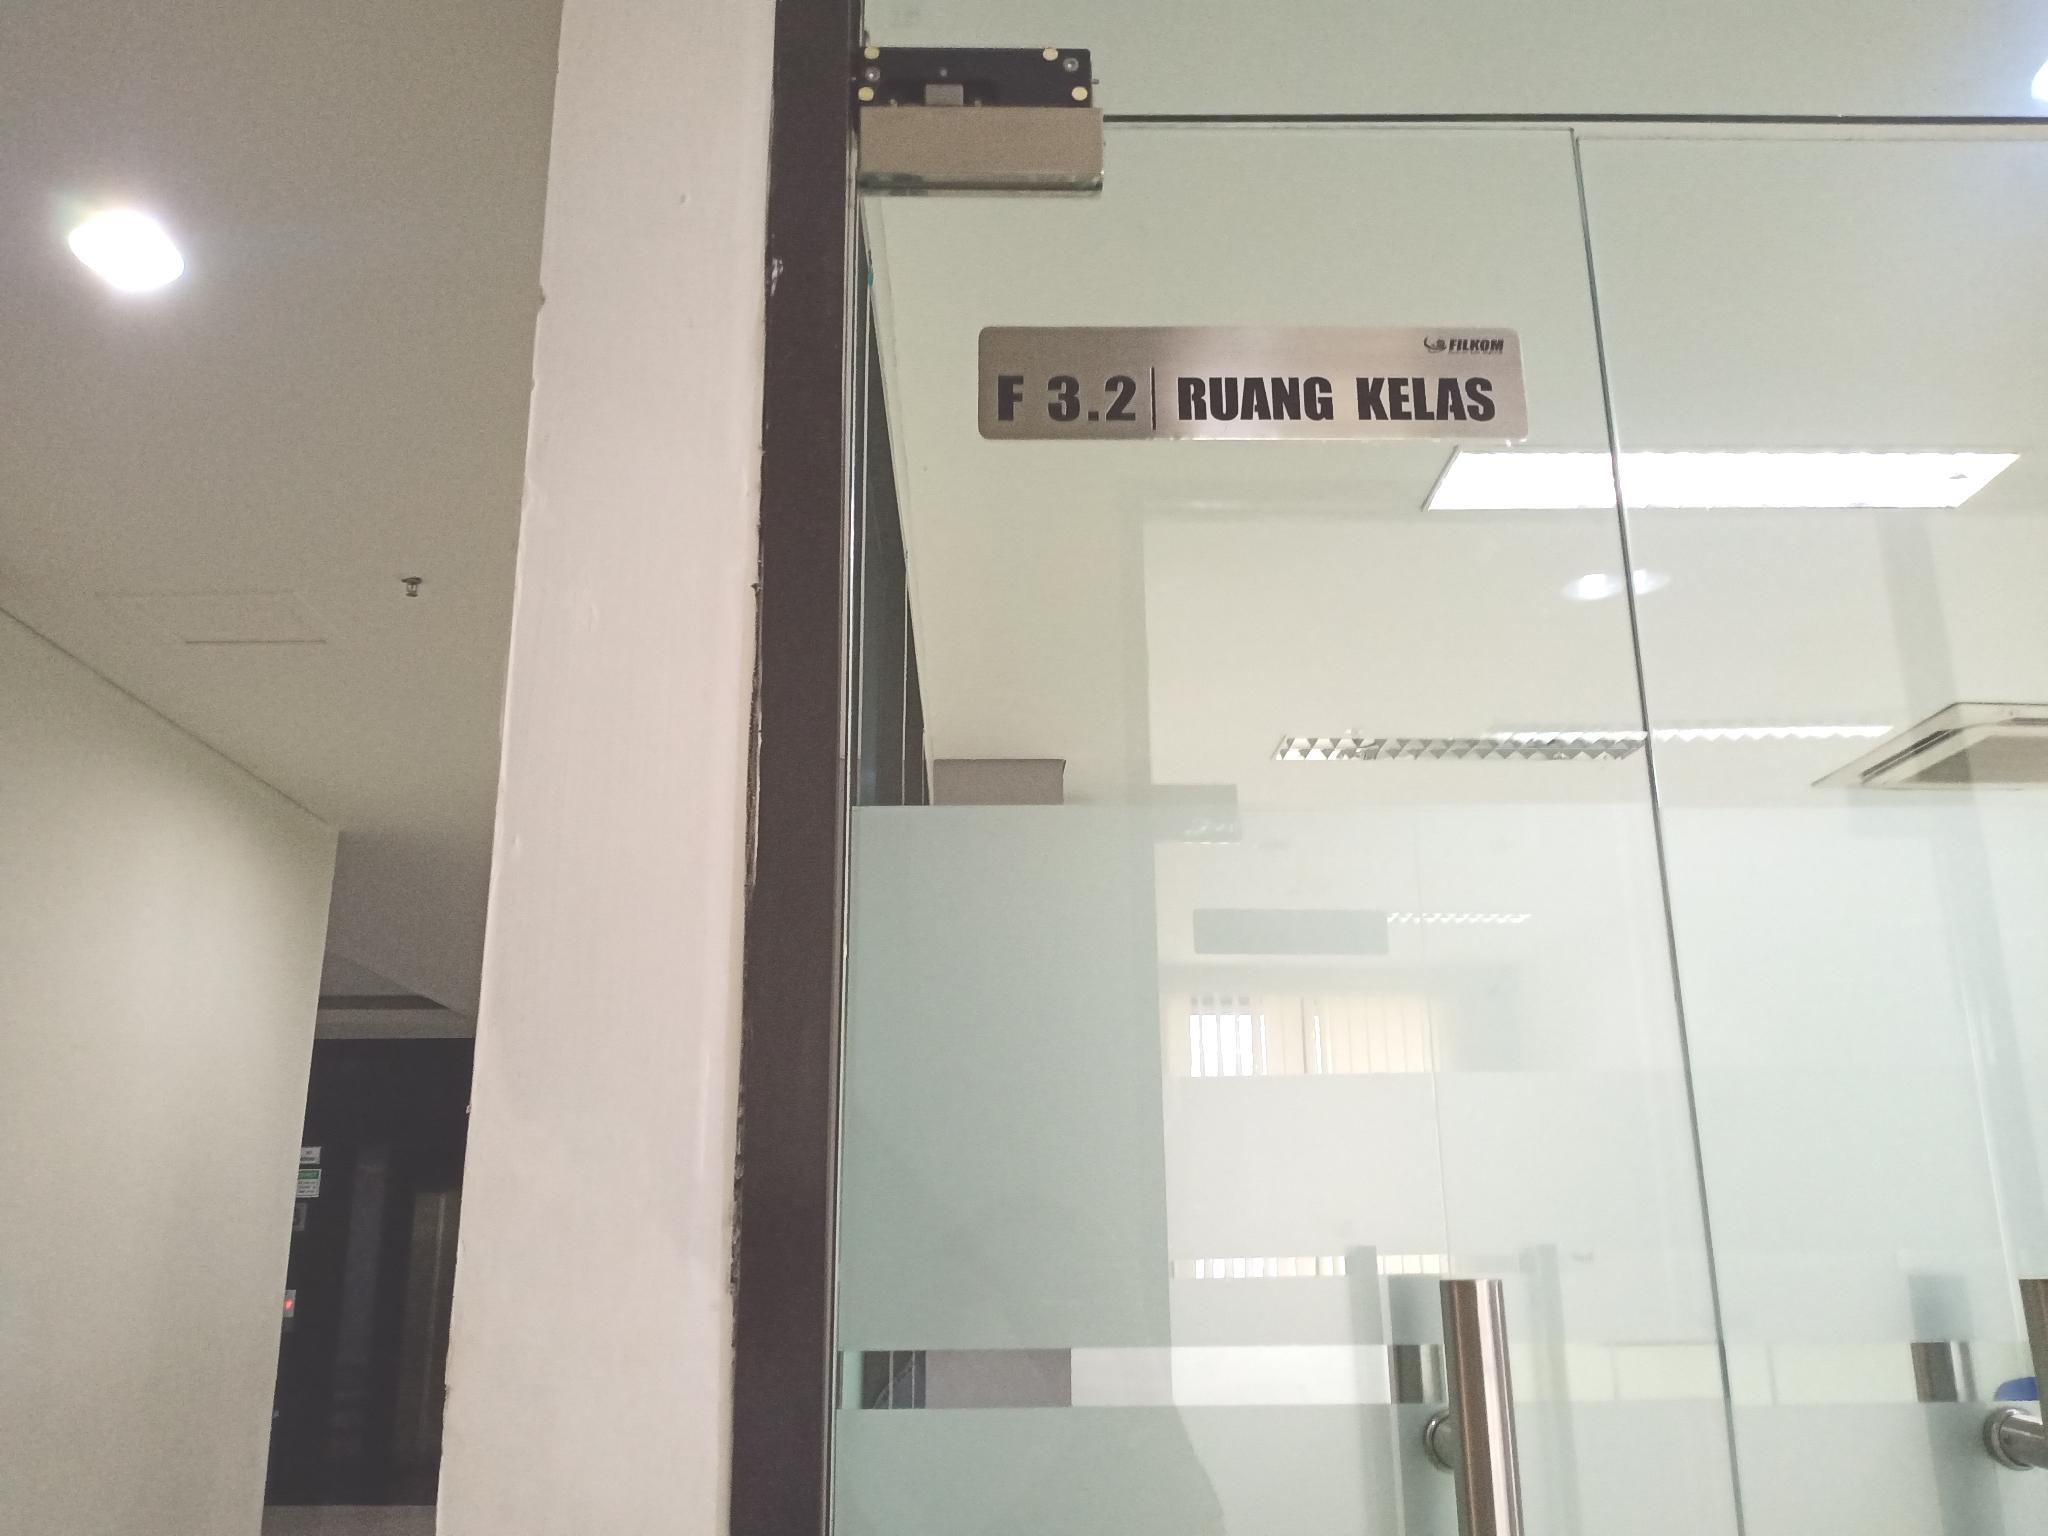plate: (977, 323, 1527, 442)
